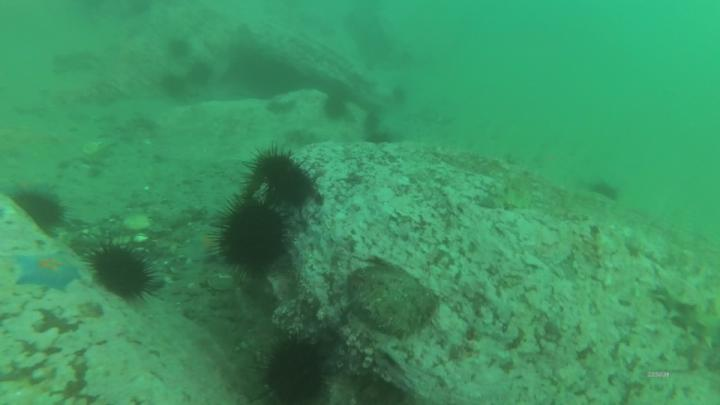echinus: (209, 195, 291, 272), (250, 331, 333, 405), (82, 242, 164, 308), (241, 142, 315, 209), (6, 186, 73, 245), (184, 59, 216, 89), (589, 179, 623, 207), (321, 94, 352, 123), (159, 72, 188, 98), (166, 38, 196, 60), (361, 111, 384, 133), (365, 129, 393, 147), (391, 83, 411, 107)
holothurian: (651, 278, 720, 352), (623, 378, 720, 405), (488, 170, 537, 213)
starfish: (10, 250, 87, 296), (184, 228, 235, 269)
